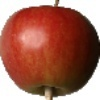apple: (1, 5, 100, 95)
